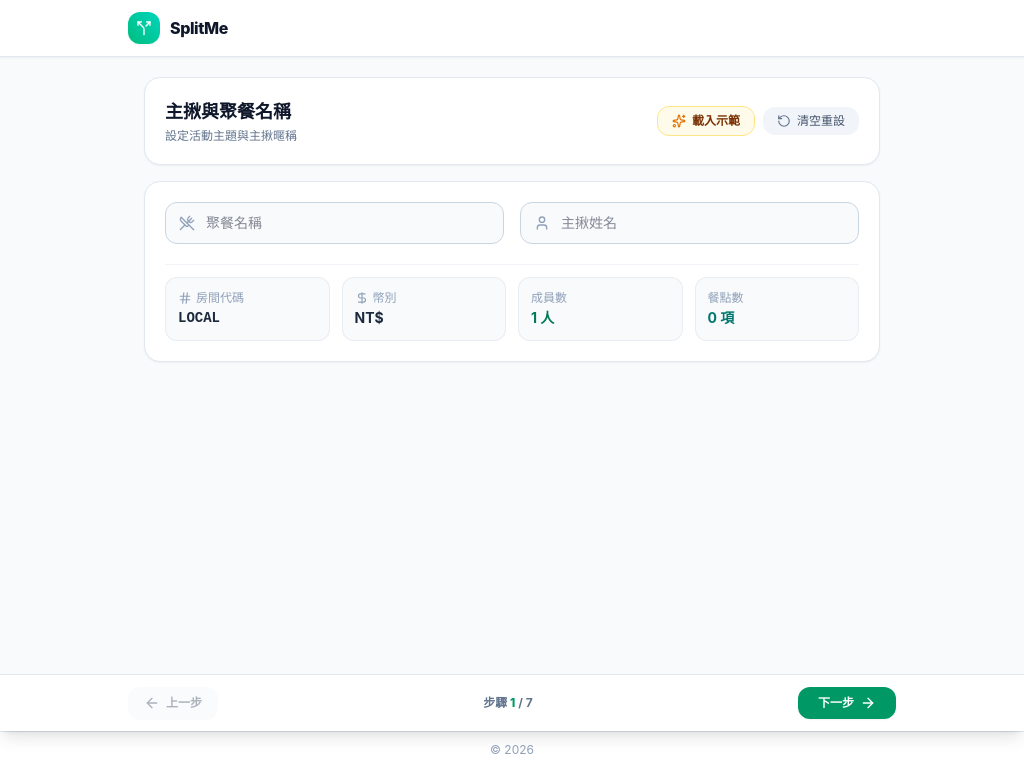
Test: End-to-End User Flow Integration › Flow 4: Offline resilience - graceful degradation when network is offline and state persistence
Click the button "下一步": (847, 703) x1=798 y1=687 x2=896 y2=719
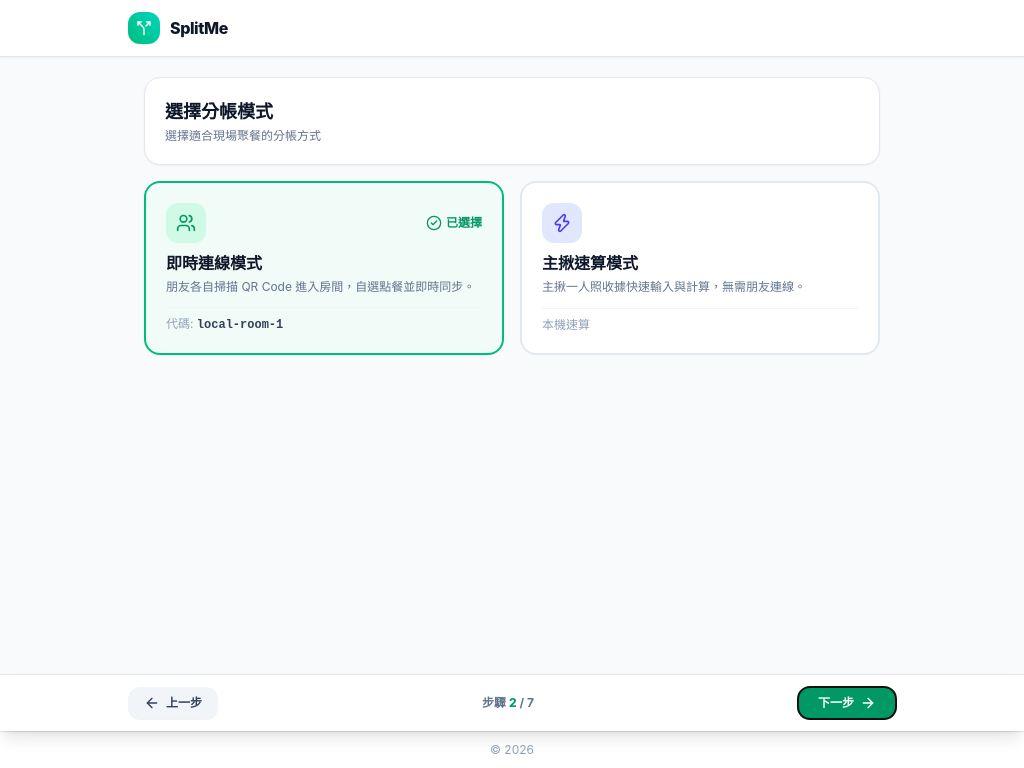
Expected: the heading "主揪速算模式" is shown, x1=542 y1=253 x2=638 y2=273
Click the button "下一步": (847, 703) x1=798 y1=687 x2=896 y2=719
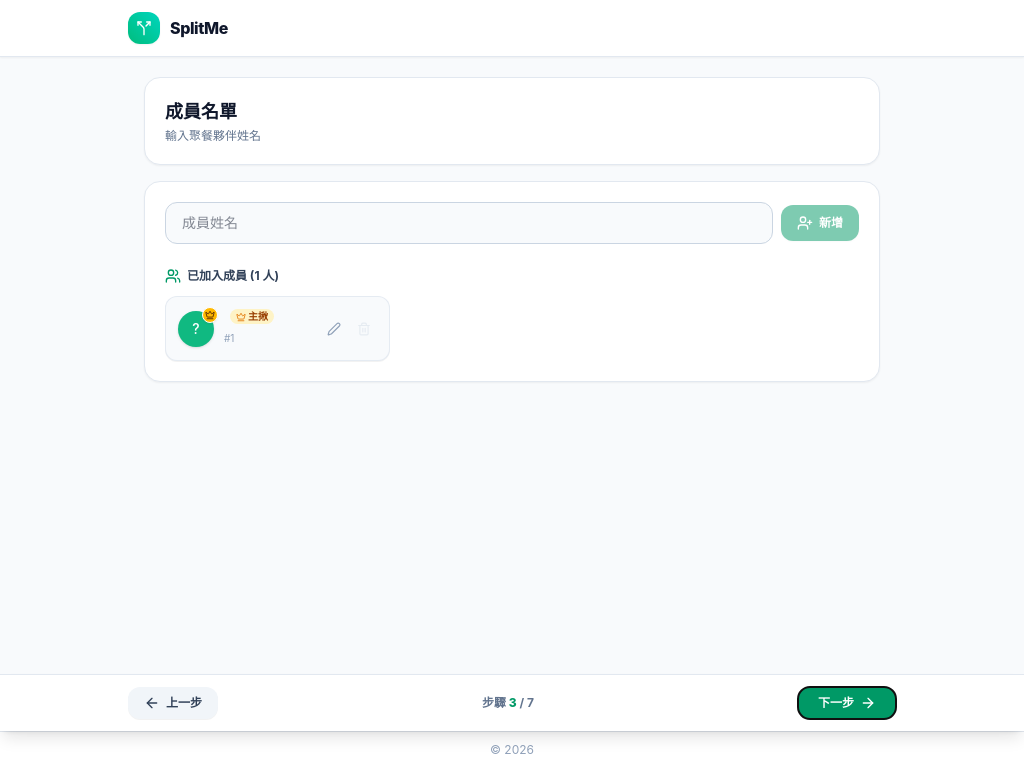
Expected: the heading "成員名單" is shown, x1=165 y1=101 x2=237 y2=122
